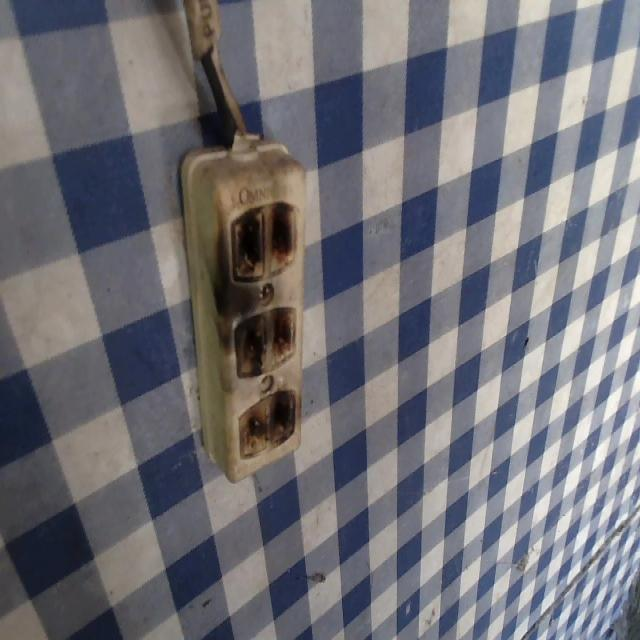-: (225, 196, 299, 281), (230, 303, 299, 373), (234, 384, 299, 456)
